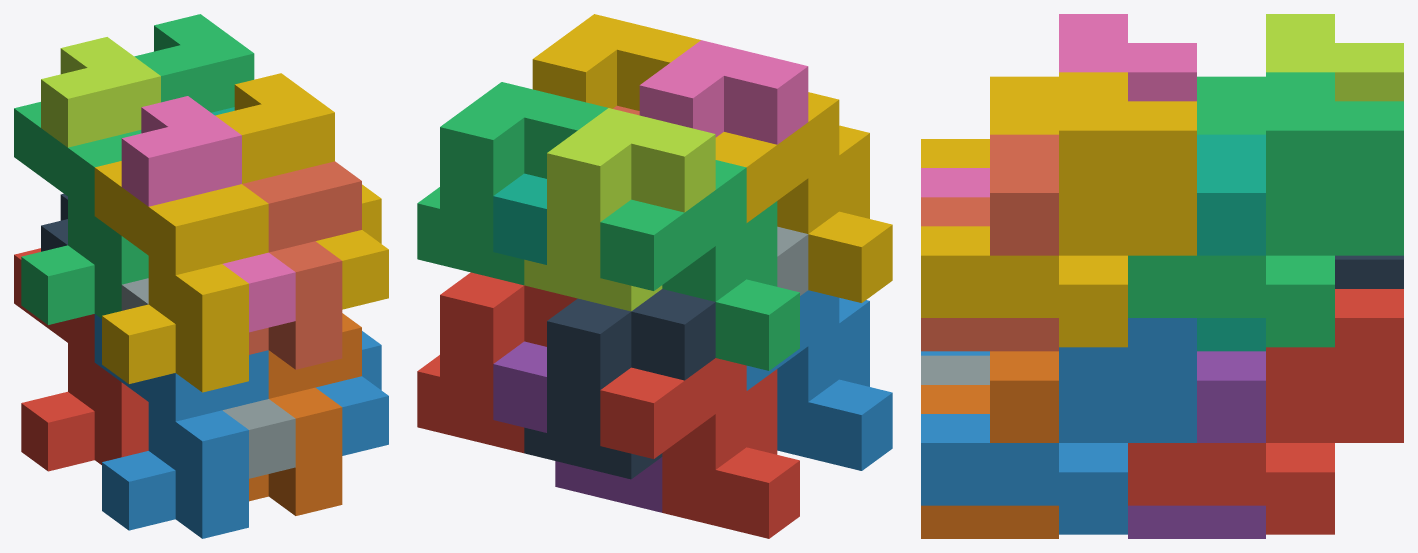
Rendered from tiling.obj.
The picture shows the model from 3 angles, left to right: view 1: azimuth 30°, elevation 25°; view 2: azimuth 150°, elevation 25°; view 3: azimuth 270°, elevation 25°; orthographic projection. The views are drawn at different scales.
Parts seen in each view (by area): view 1: copy_1_domain_4, copy_1_domain_2, copy_1_domain_3, copy_1_domain_8, copy_2_domain_4, copy_2_domain_8, copy_1_domain_1, copy_1_domain_6, copy_2_domain_3, copy_2_domain_7, copy_2_domain_6, copy_2_domain_2 (+1 smaller); view 2: copy_1_domain_1, copy_1_domain_3, copy_2_domain_3, copy_1_domain_4, copy_2_domain_1, copy_2_domain_7, copy_1_domain_2, copy_2_domain_5, copy_2_domain_4, copy_2_domain_8, copy_1_domain_5, copy_1_domain_7 (+1 smaller); view 3: copy_2_domain_8, copy_2_domain_7, copy_2_domain_5, copy_2_domain_6, copy_1_domain_8, copy_1_domain_6, copy_1_domain_5, copy_1_domain_7, copy_2_domain_4, copy_2_domain_3, copy_1_domain_4, copy_1_domain_3 (+2 smaller).
Boxes of the visible parts, x1,y1,x2,y2 form: copy_1_domain_4: [94, 161, 268, 392]; copy_1_domain_2: [94, 314, 268, 538]; copy_1_domain_3: [14, 102, 148, 324]; copy_1_domain_8: [242, 161, 361, 369]; copy_2_domain_4: [121, 96, 295, 332]; copy_2_domain_8: [215, 73, 388, 309]; copy_1_domain_1: [14, 248, 148, 471]; copy_1_domain_6: [249, 313, 361, 515]; copy_2_domain_3: [41, 37, 160, 147]; copy_2_domain_7: [134, 14, 254, 112]; copy_2_domain_6: [315, 331, 388, 455]; copy_2_domain_2: [121, 278, 295, 478]; copy_1_domain_1: [600, 358, 799, 538]; copy_1_domain_3: [600, 160, 799, 370]; copy_2_domain_3: [524, 108, 715, 311]; copy_1_domain_4: [715, 92, 892, 302]; copy_2_domain_1: [524, 289, 715, 479]; copy_2_domain_7: [417, 82, 607, 285]; copy_1_domain_2: [746, 290, 892, 470]; copy_2_domain_5: [417, 272, 577, 453]; copy_2_domain_4: [639, 40, 808, 144]; copy_2_domain_8: [532, 14, 700, 110]; copy_1_domain_5: [493, 341, 662, 512]; copy_1_domain_7: [493, 173, 546, 264]; copy_2_domain_8: [921, 72, 1196, 347]; copy_2_domain_7: [1128, 72, 1403, 347]; copy_2_domain_5: [1128, 289, 1403, 534]; copy_2_domain_6: [921, 318, 1196, 534]; copy_1_domain_8: [921, 134, 1058, 351]; copy_1_domain_6: [921, 351, 1058, 538]; copy_1_domain_5: [1128, 351, 1265, 538]; copy_1_domain_7: [1197, 134, 1265, 351]; copy_2_domain_4: [921, 14, 1196, 197]; copy_2_domain_3: [1266, 14, 1403, 101]; copy_1_domain_4: [921, 76, 1058, 167]; copy_1_domain_3: [1197, 76, 1265, 134].
Bounding box in the file's own units: 6 × 7 × 7.
